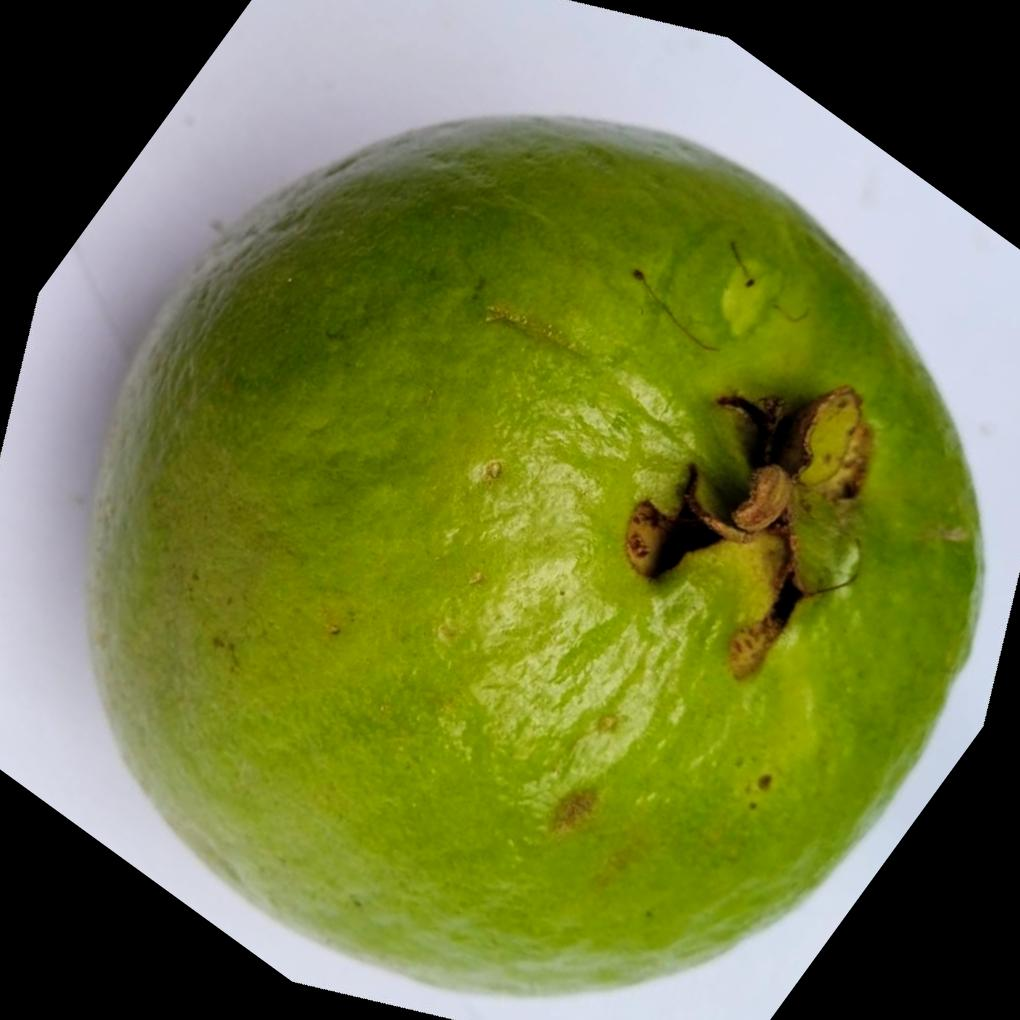FreshGuava: (79, 112, 982, 999), (81, 112, 980, 997)
